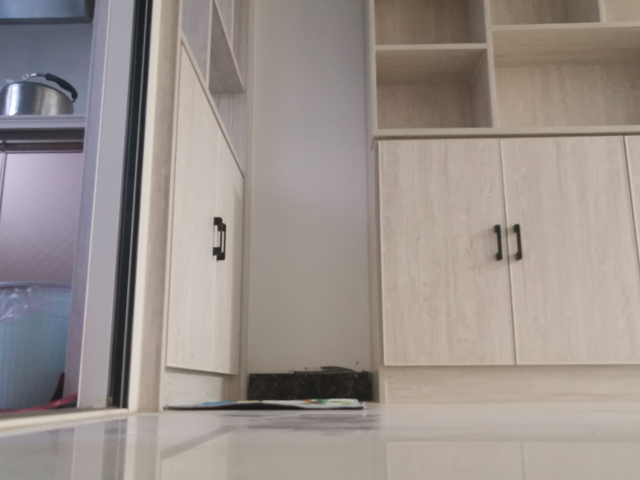cabinet: (371, 124, 640, 406), (130, 37, 253, 417)
carpet: (162, 395, 366, 412)
trashcan: (1, 279, 74, 414)
